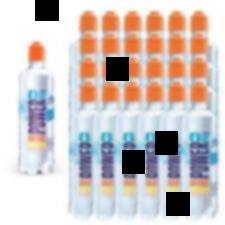powerO2_orange: (16, 36, 59, 179), (181, 82, 222, 222)
